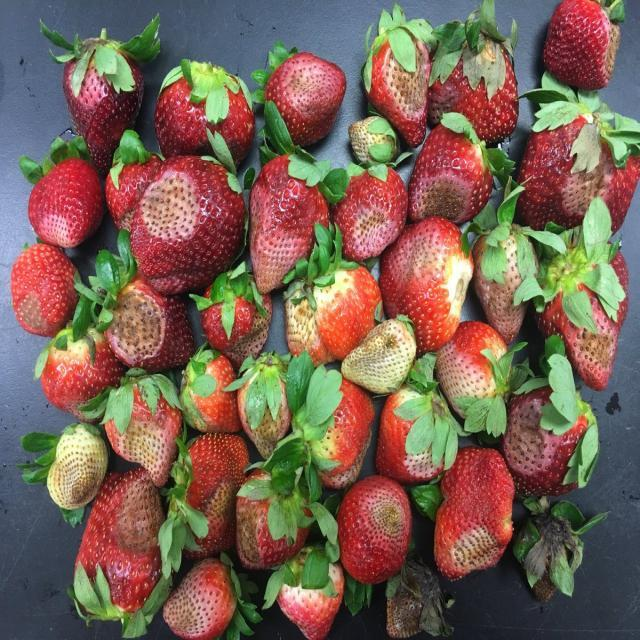Podredumbre de cuero: (126, 148, 246, 288), (531, 232, 634, 390), (85, 464, 169, 619), (502, 377, 603, 503), (536, 101, 630, 232), (57, 41, 144, 171), (249, 151, 328, 292), (92, 378, 193, 486), (256, 39, 348, 149), (170, 436, 250, 558), (98, 271, 192, 374), (282, 270, 384, 363), (433, 37, 518, 139), (230, 466, 314, 565), (390, 230, 464, 342), (470, 226, 534, 344), (202, 264, 274, 364), (437, 323, 509, 422), (26, 155, 101, 249), (366, 30, 430, 139), (516, 511, 586, 610), (383, 388, 453, 487), (414, 126, 486, 222), (8, 247, 82, 333), (36, 424, 108, 510), (236, 354, 293, 457), (343, 164, 402, 256), (378, 570, 452, 638), (101, 146, 160, 222)
